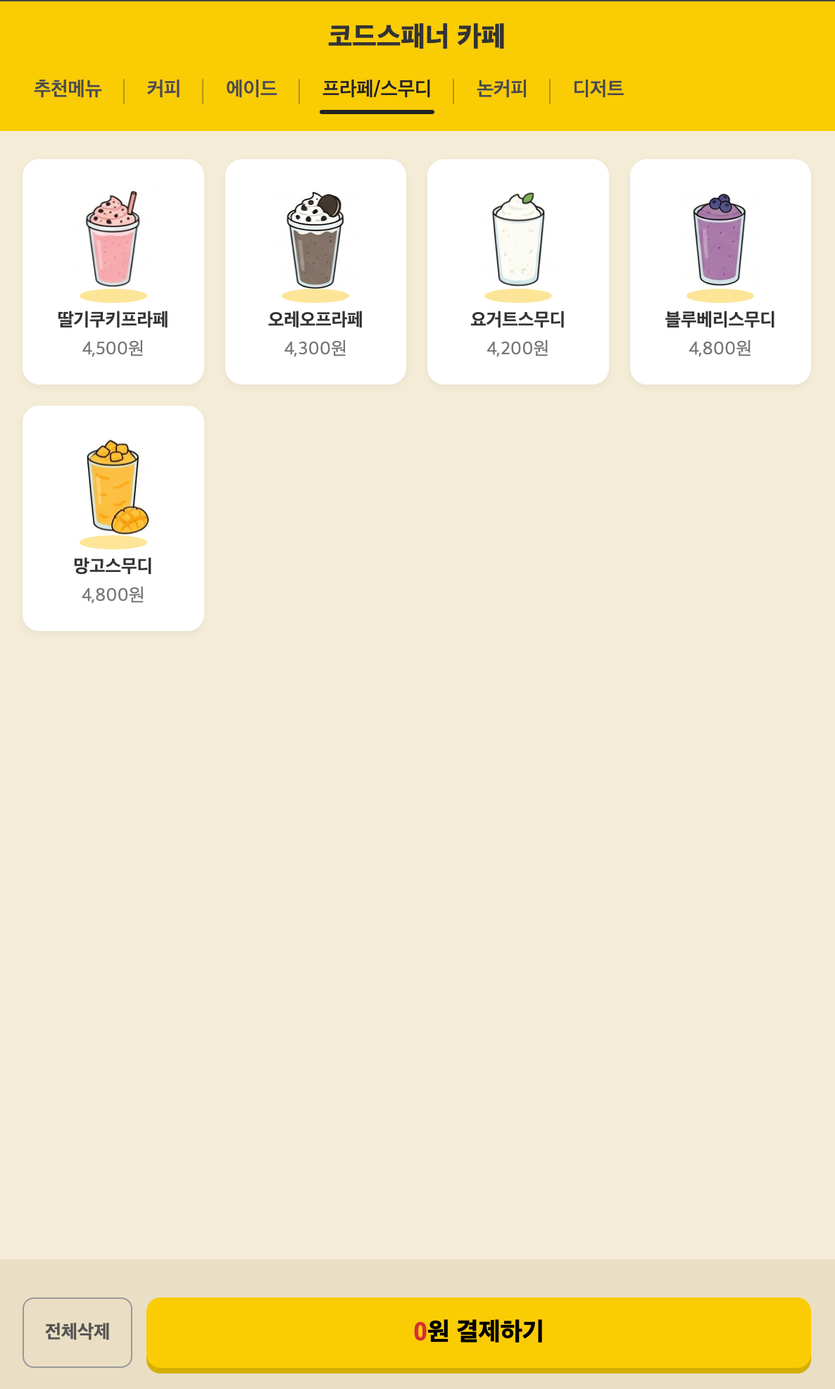action_button: (147, 1297, 811, 1374), (24, 1298, 133, 1369)
category_tab: (322, 78, 431, 99), (34, 78, 102, 99), (226, 78, 279, 98), (477, 77, 526, 98), (573, 79, 624, 98), (147, 78, 181, 99)
menu_back: (23, 405, 203, 632), (630, 159, 810, 386), (428, 159, 608, 386), (225, 159, 405, 386), (23, 158, 203, 385)
menu_name: (665, 310, 775, 329), (267, 309, 363, 330), (57, 311, 168, 329), (469, 309, 566, 329), (73, 557, 153, 575)
menu_price: (81, 585, 144, 604), (82, 339, 145, 357), (689, 339, 752, 357), (284, 339, 347, 357), (486, 339, 548, 357)
